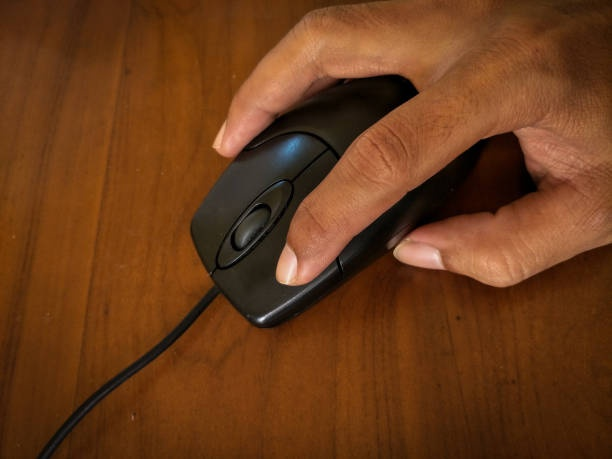mouse: (186, 66, 498, 329)
